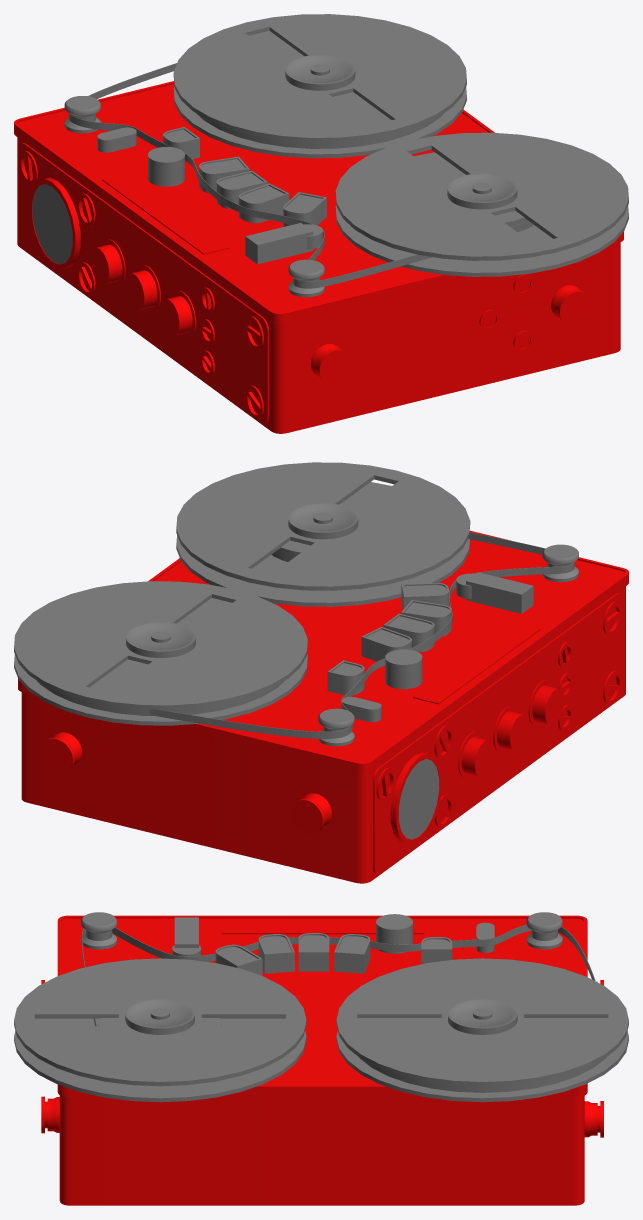
The picture shows the model from 3 angles, top to bottom: view 1: azimuth 30°, elevation 25°; view 2: azimuth 150°, elevation 25°; view 3: azimuth 270°, elevation 25°; orthographic projection.
Visible parts, largest first — view 1: Cylinder029, Object, Object002; view 2: Cylinder029, Object, Object003, Object004; view 3: Cylinder029, Object, Object004.
Boxes of the visible parts, bbox=[...] form: Cylinder029: bbox=[14, 81, 623, 433]; Object: bbox=[32, 14, 628, 297]; Object002: bbox=[310, 343, 351, 384]; Cylinder029: bbox=[18, 530, 628, 883]; Object: bbox=[14, 462, 578, 839]; Object003: bbox=[290, 793, 331, 834]; Object004: bbox=[41, 732, 82, 773]; Cylinder029: bbox=[41, 915, 587, 1205]; Object: bbox=[14, 912, 628, 1102]; Object004: bbox=[584, 1101, 603, 1137].
Bounding box in the file's own units: 67.69 × 24.22 × 90.79.
